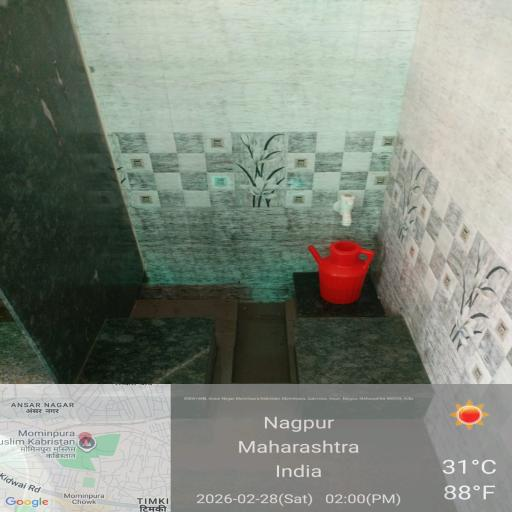clean_floor: (68, 2, 512, 262), (83, 278, 512, 383)
partial_dirty_floor: (0, 44, 76, 141)
